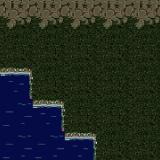Interaction: (0, 58, 47, 80), (79, 128, 109, 160), (26, 80, 47, 116), (47, 92, 78, 116), (60, 116, 79, 150)
Slow: (0, 75, 28, 160), (28, 107, 61, 160), (61, 140, 92, 160)
